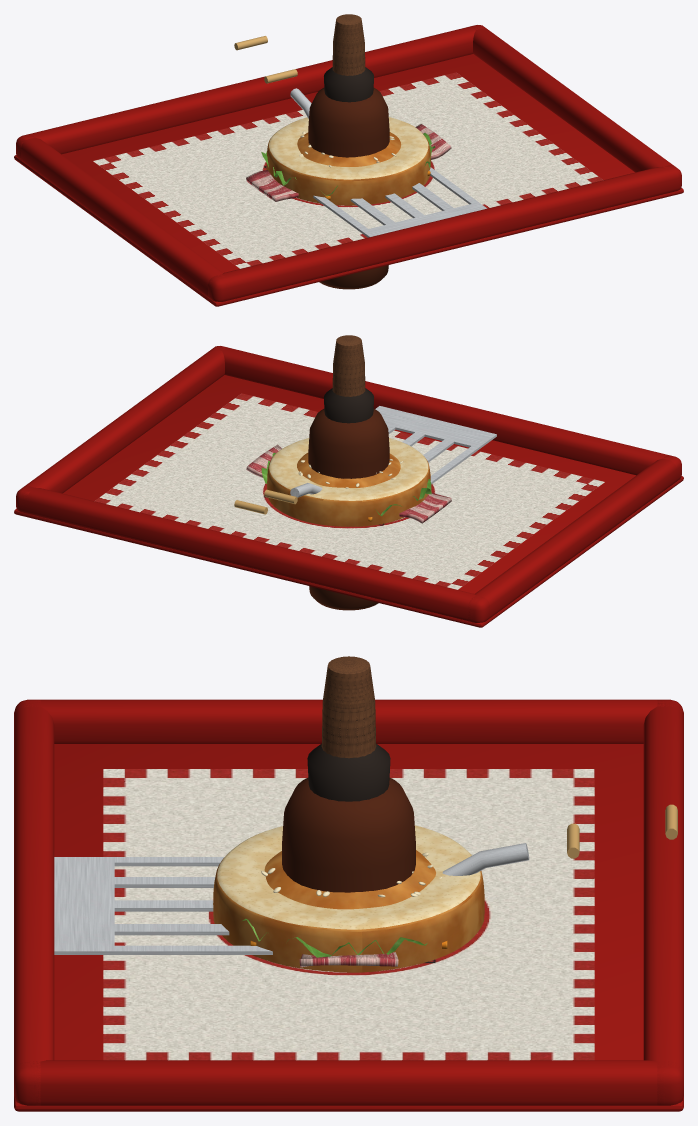
Rendered from food.gltf.
The picture shows the model from 3 angles, top to bottom: view 1: azimuth 30°, elevation 25°; view 2: azimuth 150°, elevation 25°; view 3: azimuth 270°, elevation 25°; orthographic projection. The views are drawn at different scales.
Visible parts, largest first — view 1: tray, bun_bottom, bbq_bottle, spatula, bun_top, bacon; view 2: tray, bun_bottom, bbq_bottle, spatula, bun_top, bacon; view 3: tray, bun_bottom, spatula, bbq_bottle, bun_top, bacon.
Boxes of the visible parts, x1,y1,x2,y2 form: tray: (14,25,683,306); bun_bottom: (266,117,430,205); bbq_bottle: (308,67,389,289); spatula: (234,14,486,237); bun_top: (297,131,401,167); bacon: (246,124,451,201); tray: (14,346,683,627); bun_bottom: (267,438,430,526); bbq_bottle: (308,388,389,610); spatula: (234,335,496,514); bun_top: (297,453,403,488); bacon: (246,444,451,523); tray: (14,699,683,1111); bun_bottom: (213,825,484,972); spatula: (54,656,677,954); bbq_bottle: (282,743,415,892); bun_top: (261,850,442,909); bacon: (299,952,398,967).
Bounding box in the file's own units: 0.4 × 0.21 × 0.3.
Materials: 41 (22 with a texture image).
